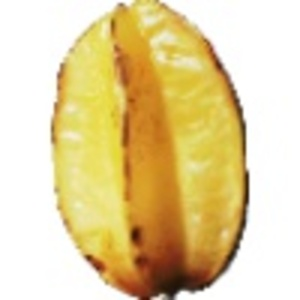carambola: (50, 1, 251, 300)
